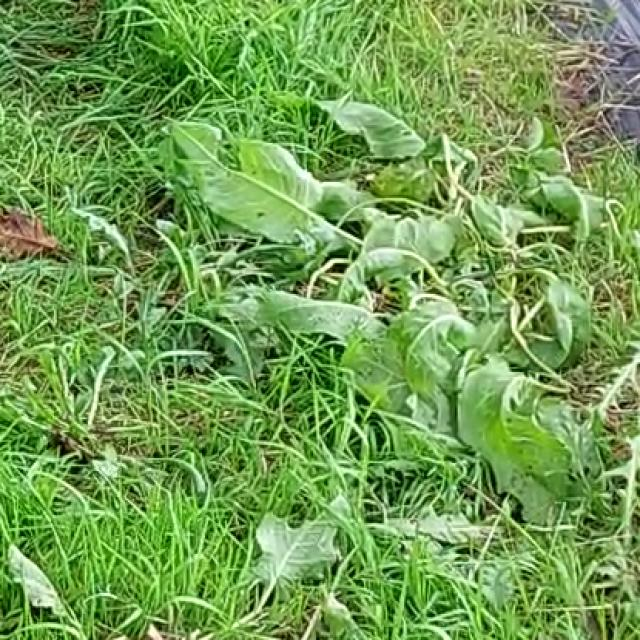organic waste: (165, 96, 575, 448)
